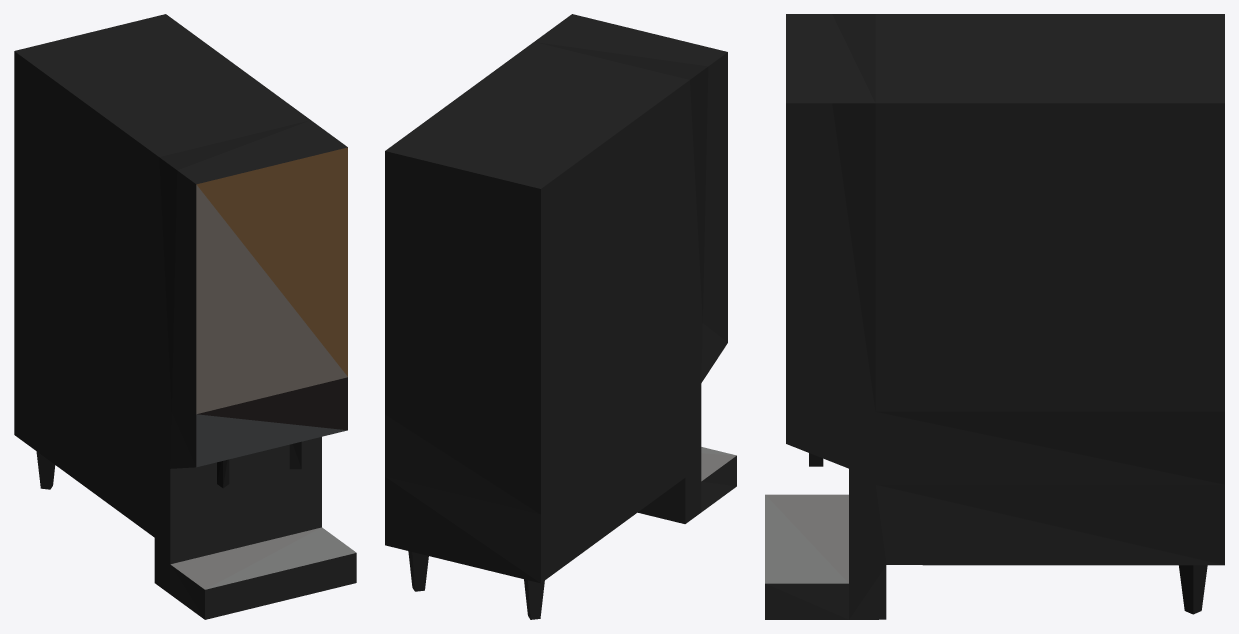
File: gs_coffee_machine.glb
The picture shows the model from 3 angles, left to right: view 1: azimuth 30°, elevation 25°; view 2: azimuth 150°, elevation 25°; view 3: azimuth 270°, elevation 25°; orthographic projection. The views are drawn at different scales.
Visible parts, largest first — view 1: Coffee_machine; view 2: Coffee_machine; view 3: Coffee_machine.
Part boxes in pixels (x1,y1,x2,y2): Coffee_machine: [14, 14, 356, 619]; Coffee_machine: [385, 14, 736, 619]; Coffee_machine: [765, 14, 1224, 619].
Size of the model in its own units: 0.3691 by 1 by 0.8041.
